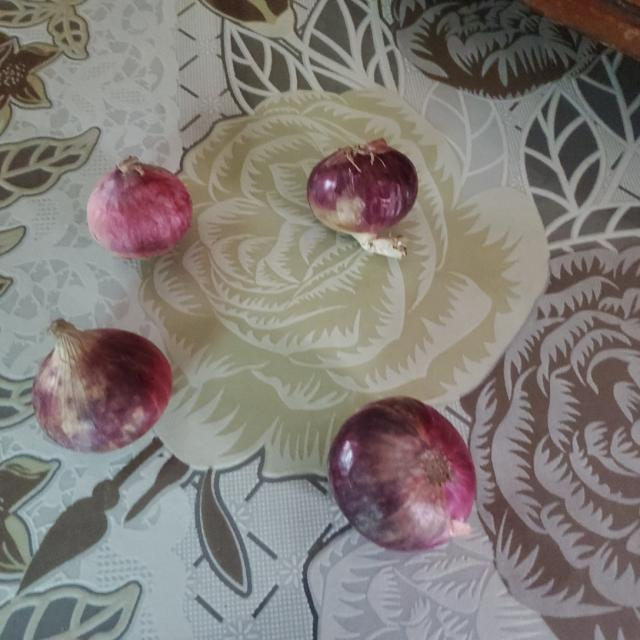onion: (329, 393, 478, 543), (27, 329, 170, 459), (88, 158, 191, 259), (307, 144, 417, 236)
